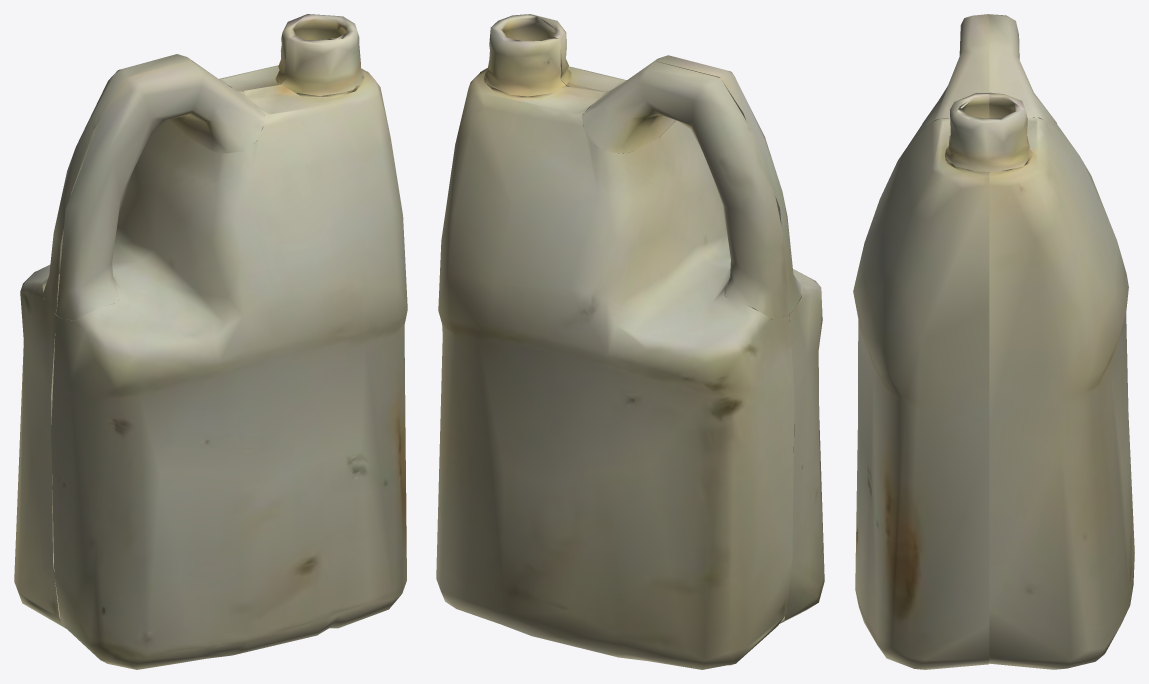
File: plastic_bottle_gallon.glb
The picture shows the model from 3 angles, left to right: view 1: azimuth 30°, elevation 25°; view 2: azimuth 150°, elevation 25°; view 3: azimuth 270°, elevation 25°; orthographic projection.
Visible parts, largest first — view 1: plastic_bottle_gallon; view 2: plastic_bottle_gallon; view 3: plastic_bottle_gallon.
Part boxes in pixels (left/top/right/bottom): plastic_bottle_gallon: left=14, top=14, right=407, bottom=669; plastic_bottle_gallon: left=436, top=14, right=824, bottom=669; plastic_bottle_gallon: left=853, top=14, right=1134, bottom=669.
Bounding box in the file's own units: 0.167 × 0.2743 × 0.1269.
Materials: 1 (1 with a texture image).
